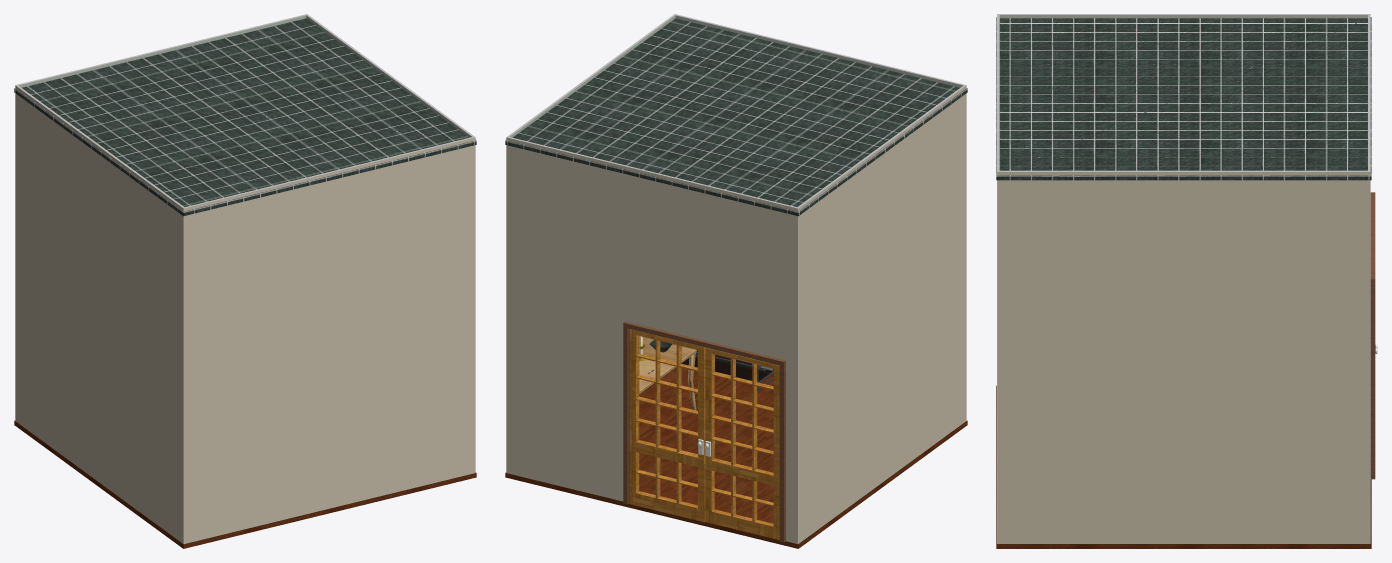
Rendered from ProcTHOR-Train-156.glb.
3 renders of one model, left to right at view 1: azimuth 30°, elevation 25°; view 2: azimuth 150°, elevation 25°; view 3: azimuth 270°, elevation 25°, orthographic. The views are drawn at different scales.
Visible parts, largest first — view 1: WallInside#wall|exterior|0.00|3.52|3.52|3.52, WallInside#wall|exterior|3.52|0.00|3.52|3.52, Ceiling#room|2|c, Floor#room|2|f, WallInside#wall|2|0.00|0.00|3.52|0.00, WallInside#wall|2|0.00|0.00|0.00|3.52; view 2: WallInside#wall|exterior|0.00|0.00|3.52|0.00, WallInside#wall|exterior|3.52|0.00|3.52|3.52, Ceiling#room|2|c, Floor#room|2|f, Doorway_Door_5b, Doorway_Door_5a, Doorway_Double_5, Dining_Table_218_1, WallInside#wall|2|0.00|3.52|3.52|3.52, TV_Stand_220_1, WallInside#wall|2|0.00|0.00|0.00|3.52; view 3: WallInside#wall|exterior|0.00|0.00|0.00|3.52, Ceiling#room|2|c, Floor#room|2|f, WallInside#wall|2|3.52|0.00|3.52|3.52, Doorway_Double_5, WallInside#wall|2|0.00|0.00|0.00|3.52, WallInside#wall|exterior|0.00|0.00|3.52|0.00, WallInside#wall|exterior|0.00|3.52|3.52|3.52.
Boxes of the visible parts, left/top/right/bottom form: WallInside#wall|exterior|0.00|3.52|3.52|3.52: left=184, top=137, right=475, bottom=543; WallInside#wall|exterior|3.52|0.00|3.52|3.52: left=15, top=85, right=183, bottom=543; Ceiling#room|2|c: left=14, top=18, right=476, bottom=216; Floor#room|2|f: left=14, top=420, right=476, bottom=548; WallInside#wall|2|0.00|0.00|3.52|0.00: left=16, top=14, right=307, bottom=87; WallInside#wall|2|0.00|0.00|0.00|3.52: left=305, top=14, right=474, bottom=137; WallInside#wall|exterior|0.00|0.00|3.52|0.00: left=506, top=137, right=797, bottom=543; WallInside#wall|exterior|3.52|0.00|3.52|3.52: left=797, top=85, right=966, bottom=543; Ceiling#room|2|c: left=505, top=18, right=967, bottom=216; Floor#room|2|f: left=505, top=358, right=967, bottom=548; Doorway_Door_5b: left=629, top=329, right=705, bottom=522; Doorway_Door_5a: left=705, top=347, right=779, bottom=539; Doorway_Double_5: left=623, top=321, right=785, bottom=542; Dining_Table_218_1: left=639, top=336, right=697, bottom=410; WallInside#wall|2|0.00|3.52|3.52|3.52: left=674, top=14, right=963, bottom=374; TV_Stand_220_1: left=681, top=350, right=773, bottom=390; WallInside#wall|2|0.00|0.00|0.00|3.52: left=508, top=14, right=676, bottom=137; WallInside#wall|exterior|0.00|0.00|0.00|3.52: left=997, top=171, right=1370, bottom=543; Ceiling#room|2|c: left=996, top=17, right=1371, bottom=180; Floor#room|2|f: left=996, top=385, right=1371, bottom=548; WallInside#wall|2|3.52|0.00|3.52|3.52: left=998, top=14, right=1369, bottom=18; Doorway_Double_5: left=1370, top=192, right=1375, bottom=479; WallInside#wall|2|0.00|0.00|0.00|3.52: left=1000, top=170, right=1367, bottom=171; WallInside#wall|exterior|0.00|0.00|3.52|0.00: left=1369, top=14, right=1370, bottom=543; WallInside#wall|exterior|0.00|3.52|3.52|3.52: left=997, top=14, right=998, bottom=543.
Size of what is drawn, in the model's own units: 3.56 by 3.94 by 3.62.
Materials: 66 (18 with a texture image).
